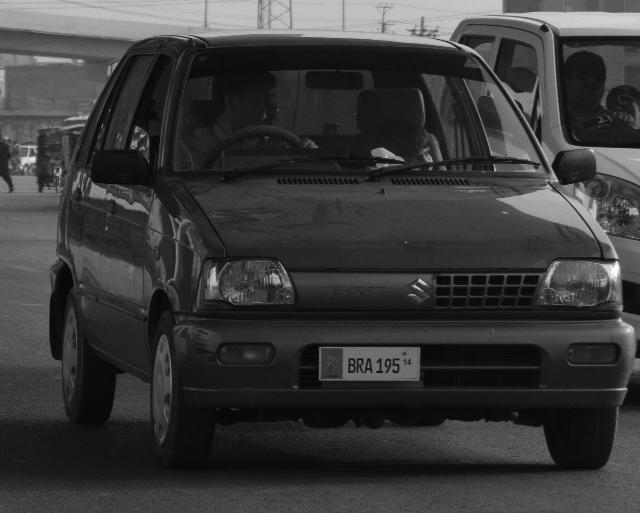Number: (344, 357, 404, 375)
